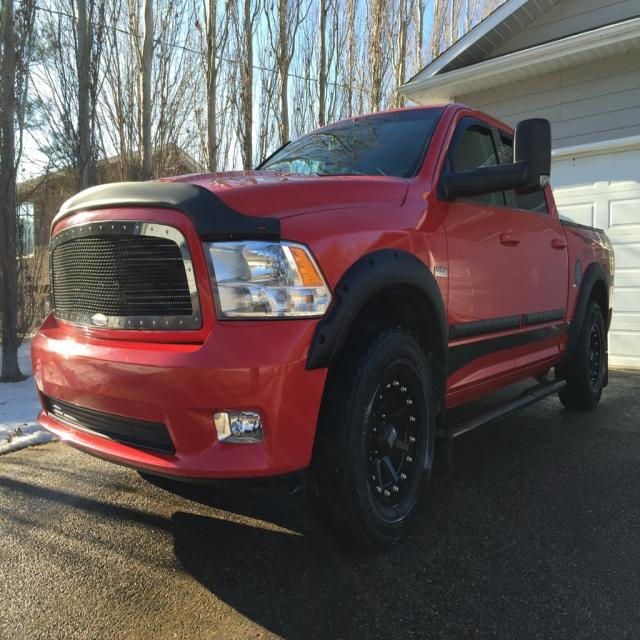car: (29, 102, 614, 539)
